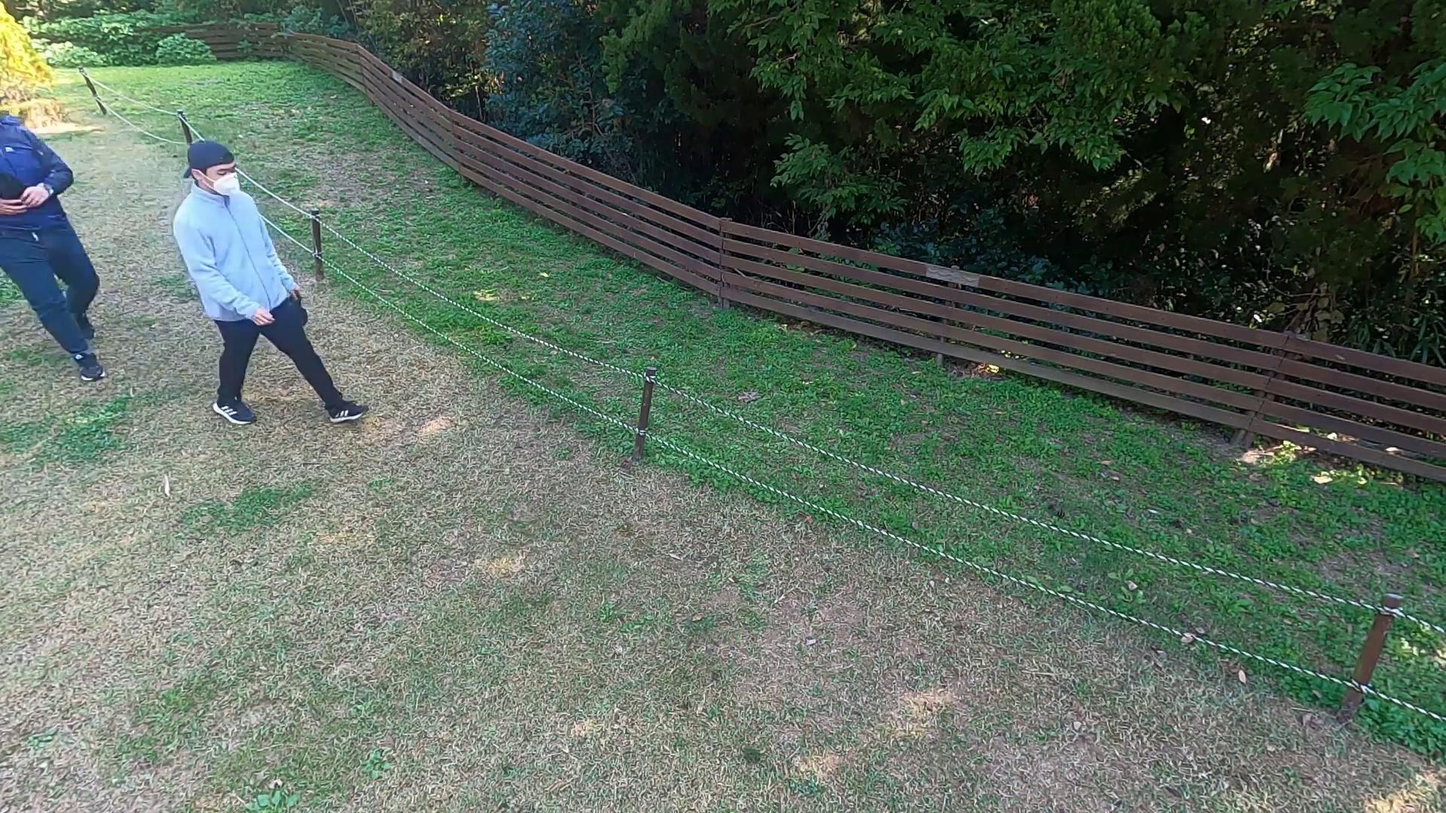person: (176, 136, 374, 426), (3, 89, 129, 389)
